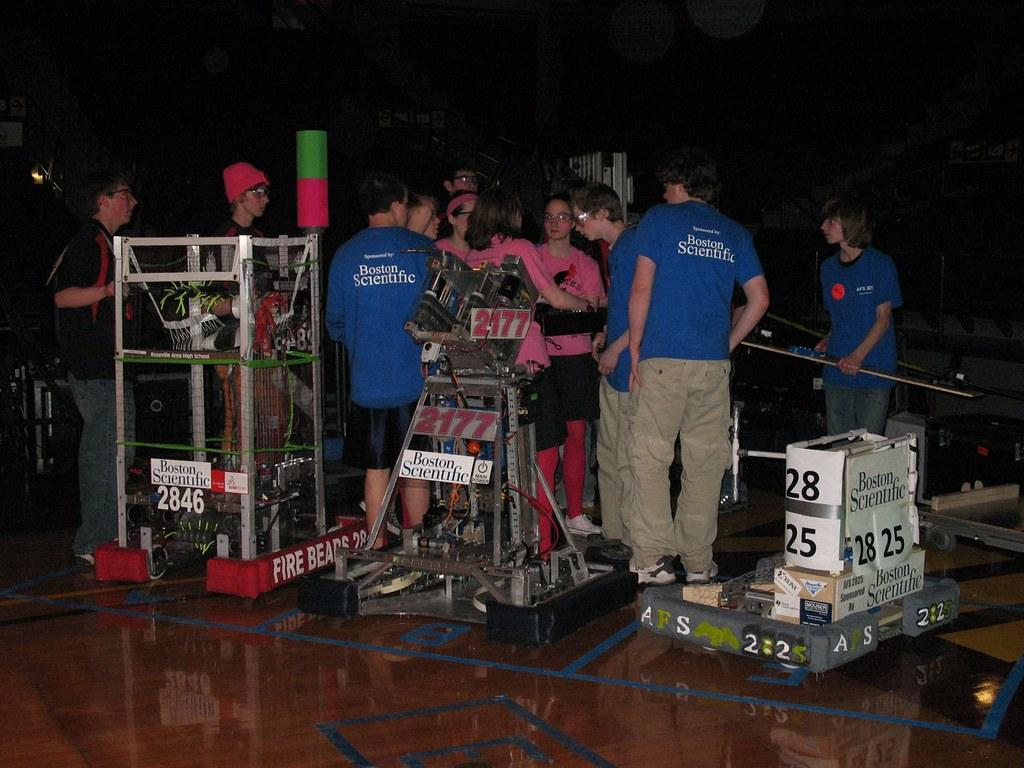robot: (285, 242, 648, 644), (82, 217, 399, 610), (625, 418, 965, 697)
